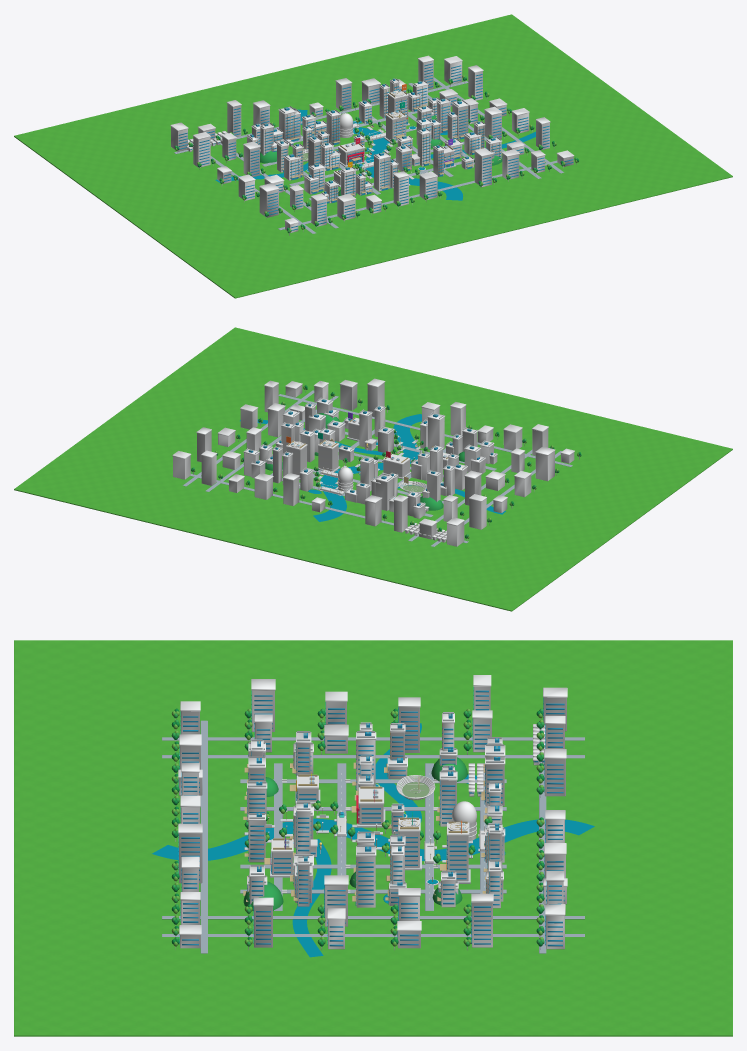
Rendered from city.glb.
3 views of the same model, one above another, from view 1: azimuth 30°, elevation 25°; view 2: azimuth 150°, elevation 25°; view 3: azimuth 270°, elevation 25° (orthographic). The views are drawn at different scales.
Visible parts, largest first — view 1: reference_static_Reference_park_green, reference_static_Reference_white_architecture, reference_static_Recessed_horizontal_windows, reference_static_Reference_soft_gray_road, premium_city_detail_Champagne brushed metal, reference_static_Reference_cyan_river, premium_city_detail_Warm limestone paving, premium_city_detail_Smoked architectural glazing, modern_tree_clusters_1, modern_tree_clusters_2, modern_tree_clusters_0, vinmec_destination (+2 smaller); view 2: reference_static_Reference_park_green, reference_static_Reference_white_architecture, reference_static_Reference_soft_gray_road, reference_static_Reference_cyan_river, premium_city_detail_Warm limestone paving, vinmec_destination, premium_city_detail_Smoked architectural glazing, vincom_mall, vincom_center, reference_static_Reference_hill_green; view 3: reference_static_Reference_park_green, reference_static_Reference_white_architecture, reference_static_Reference_soft_gray_road, reference_static_Recessed_horizontal_windows, reference_static_Reference_cyan_river, premium_city_detail_Warm limestone paving, modern_tree_clusters_0, modern_tree_clusters_1, modern_tree_clusters_2, premium_city_detail_Champagne brushed metal, vincom_center, reference_static_Reference_hill_green (+5 smaller).
Part boxes in pixels (left/top/right/bottom): reference_static_Reference_park_green: left=14, top=14, right=732, bottom=298; reference_static_Reference_white_architecture: left=170, top=55, right=576, bottom=235; reference_static_Recessed_horizontal_windows: left=178, top=63, right=573, bottom=230; reference_static_Reference_soft_gray_road: left=174, top=77, right=563, bottom=233; premium_city_detail_Champagne brushed metal: left=251, top=78, right=500, bottom=202; reference_static_Reference_cyan_river: left=215, top=109, right=535, bottom=200; premium_city_detail_Warm limestone paving: left=247, top=78, right=501, bottom=195; premium_city_detail_Smoked architectural glazing: left=250, top=78, right=495, bottom=203; modern_tree_clusters_1: left=174, top=76, right=577, bottom=233; modern_tree_clusters_2: left=175, top=75, right=579, bottom=232; modern_tree_clusters_0: left=177, top=78, right=578, bottom=230; vinmec_destination: left=384, top=104, right=406, bottom=143; reference_static_Reference_park_green: left=14, top=327, right=732, bottom=611; reference_static_Reference_white_architecture: left=172, top=378, right=579, bottom=546; reference_static_Reference_soft_gray_road: left=183, top=390, right=572, bottom=546; reference_static_Reference_cyan_river: left=240, top=414, right=505, bottom=521; premium_city_detail_Warm limestone paving: left=244, top=397, right=496, bottom=507; vinmec_destination: left=318, top=438, right=340, bottom=472; premium_city_detail_Smoked architectural glazing: left=248, top=399, right=493, bottom=506; vincom_mall: left=382, top=451, right=411, bottom=479; vincom_center: left=286, top=436, right=307, bottom=479; reference_static_Reference_hill_green: left=265, top=413, right=464, bottom=510; reference_static_Reference_park_green: left=14, top=640, right=732, bottom=1036; reference_static_Reference_white_architecture: left=175, top=675, right=567, bottom=950; reference_static_Reference_soft_gray_road: left=162, top=720, right=584, bottom=953; reference_static_Recessed_horizontal_windows: left=178, top=687, right=564, bottom=946; reference_static_Reference_cyan_river: left=152, top=723, right=594, bottom=957; premium_city_detail_Warm limestone paving: left=244, top=712, right=503, bottom=887; modern_tree_clusters_0: left=171, top=708, right=544, bottom=946; modern_tree_clusters_1: left=171, top=708, right=544, bottom=946; modern_tree_clusters_2: left=171, top=708, right=544, bottom=946; premium_city_detail_Champagne brushed metal: left=243, top=713, right=497, bottom=904; vincom_center: left=440, top=820, right=470, bottom=883; reference_static_Reference_hill_green: left=243, top=757, right=467, bottom=910.
Bounding box in the file's own units: 44.2 × 4.39 × 34.
20 materials, 1 textured.
